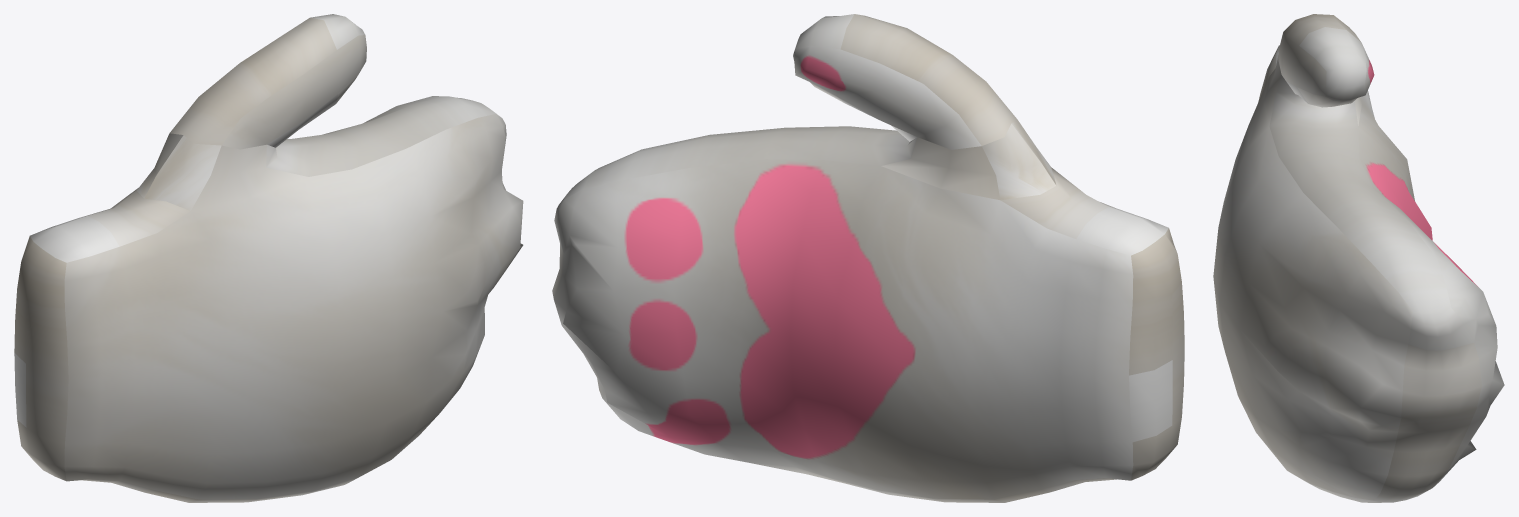
Rendered from Paw.fbx.
3 renders of one model, left to right at view 1: azimuth 30°, elevation 25°; view 2: azimuth 150°, elevation 25°; view 3: azimuth 270°, elevation 25°, orthographic. The views are drawn at different scales.
Parts seen in each view (by area): view 1: Paw; view 2: Paw; view 3: Paw.
Part boxes in pixels (x1,y1,x2,y2): Paw: (14,14,523,502); Paw: (552,14,1184,502); Paw: (1213,14,1504,502).
Bounding box in the file's own units: 27.95 × 22.83 × 13.67.
